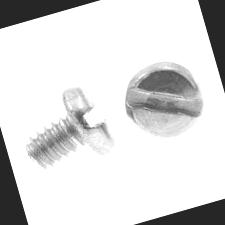slotted: (112, 50, 210, 150)
